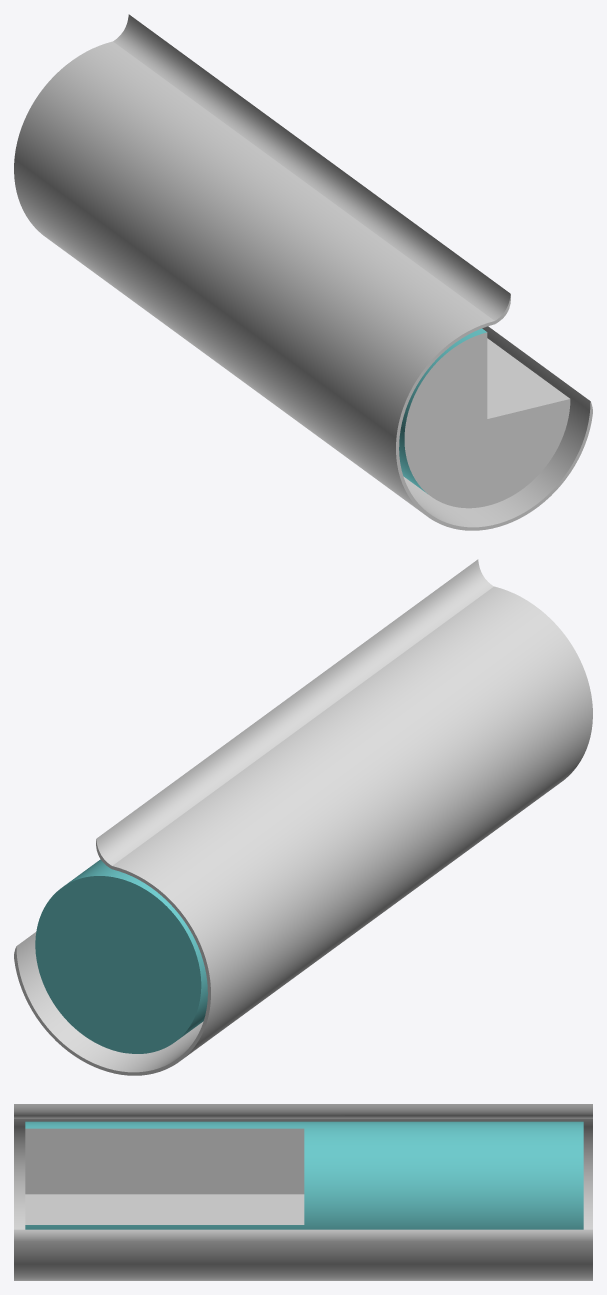
File: MENTHOLFIX.glb
3 renders of one model, top to bottom at view 1: azimuth 30°, elevation 25°; view 2: azimuth 150°, elevation 25°; view 3: azimuth 270°, elevation 25°, orthographic. The views are drawn at different scales.
Size of the model in its own units: 0.00926 by 0.0103 by 0.0311.
